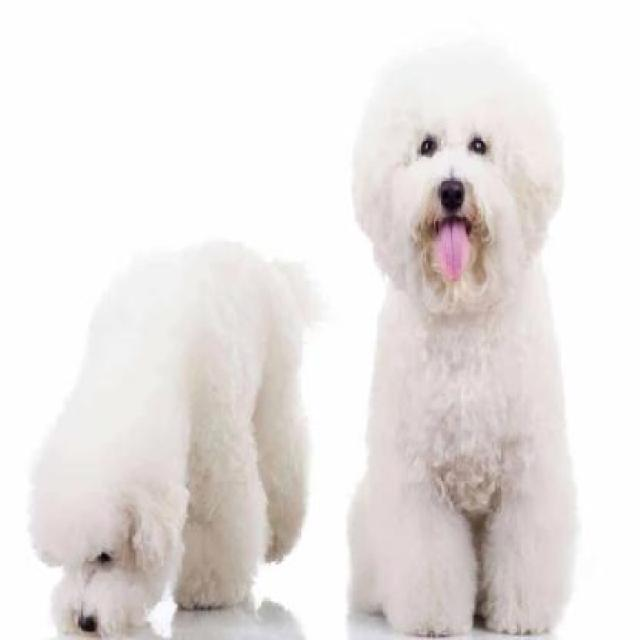animals: (345, 19, 583, 630), (35, 234, 323, 634)
